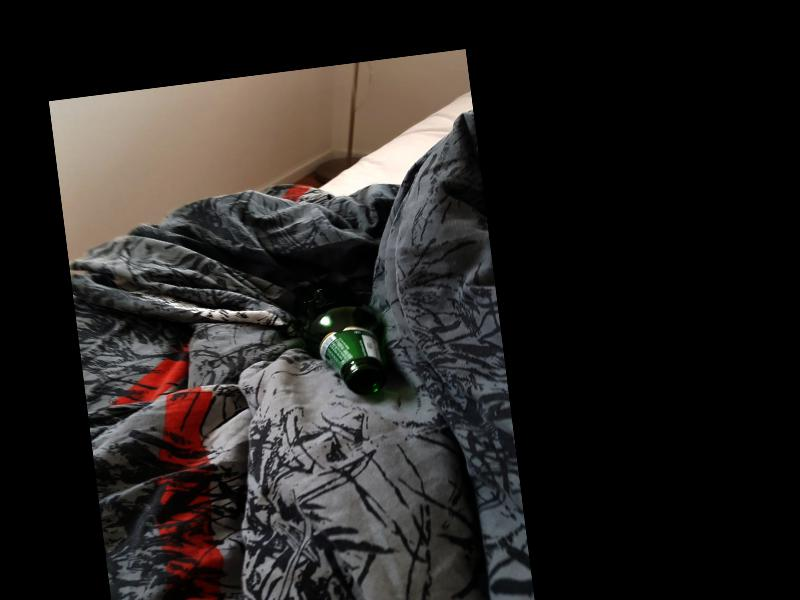Beer: (291, 274, 392, 402)
